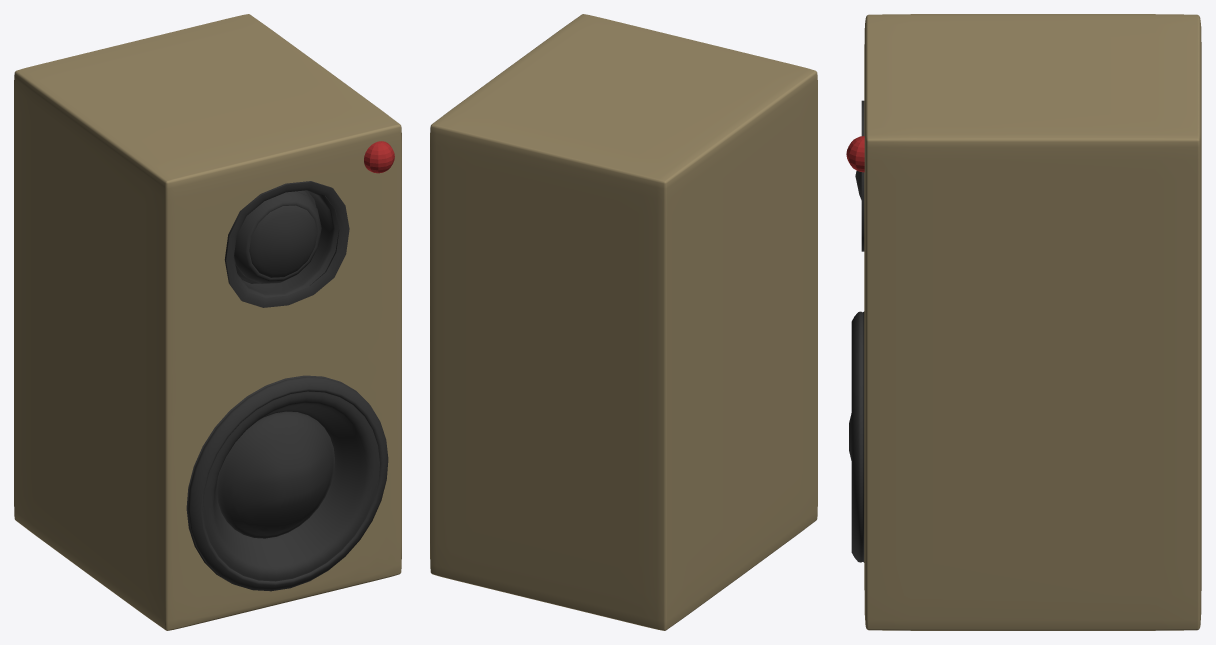
Rendered from Speaker.fbx.
3 views of the same model, side by side, from view 1: azimuth 30°, elevation 25°; view 2: azimuth 150°, elevation 25°; view 3: azimuth 270°, elevation 25° (orthographic). The views are drawn at different scales.
Parts seen in each view (by area): view 1: polySurface3; view 2: polySurface3; view 3: polySurface3.
Boxes of the visible parts, <box> form: polySurface3: <box>14,14,401,630</box>; polySurface3: <box>430,14,817,630</box>; polySurface3: <box>846,14,1201,630</box>.
Bounding box in the file's own units: 239 × 432 × 281.
